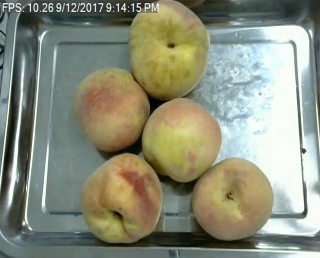Peach: (128, 0, 208, 99), (82, 152, 165, 242), (141, 97, 222, 183), (191, 156, 273, 239), (73, 67, 149, 152)
